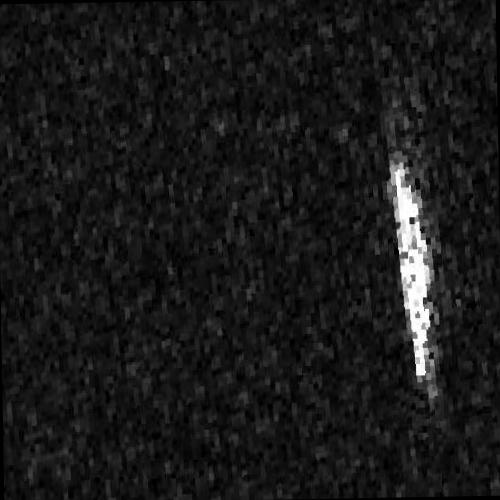ship: (388, 156, 432, 384)
